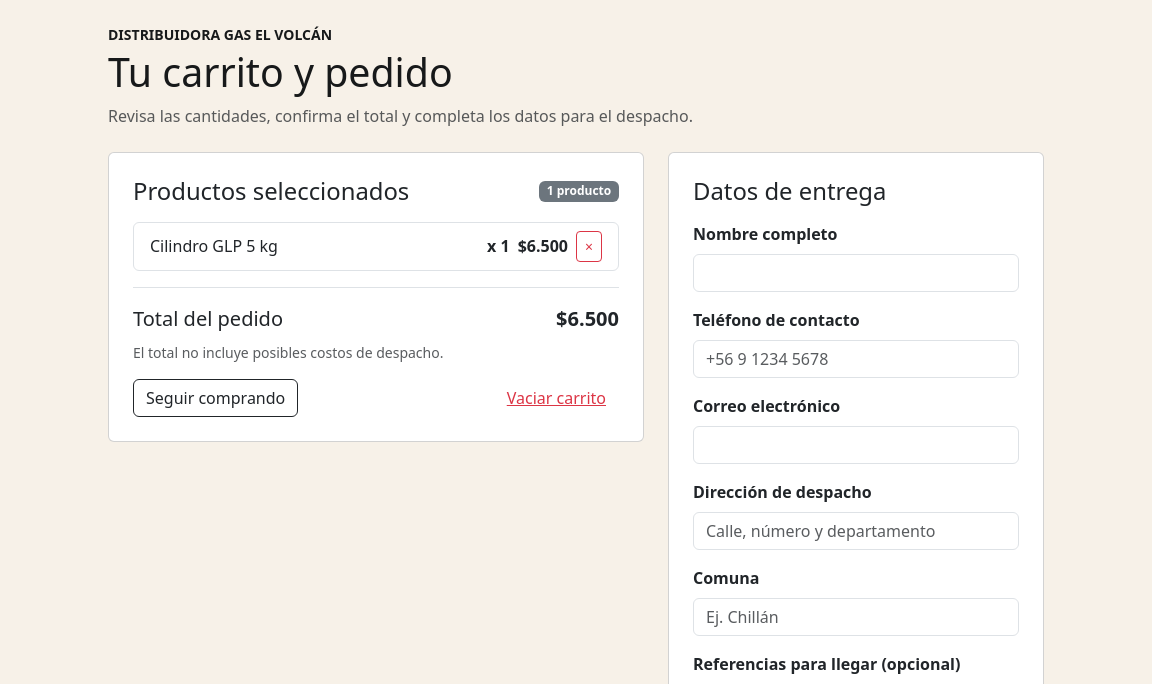
it: validaciones del formulario de pedido › muestra errores en los campos obligatorios si se envía vacío
The width and height of the screenshot is (1152, 684).
Type "D" into the field labelled "Nombre completo" at coordinates (856, 273), box x1=693 y1=254 x2=1019 y2=292
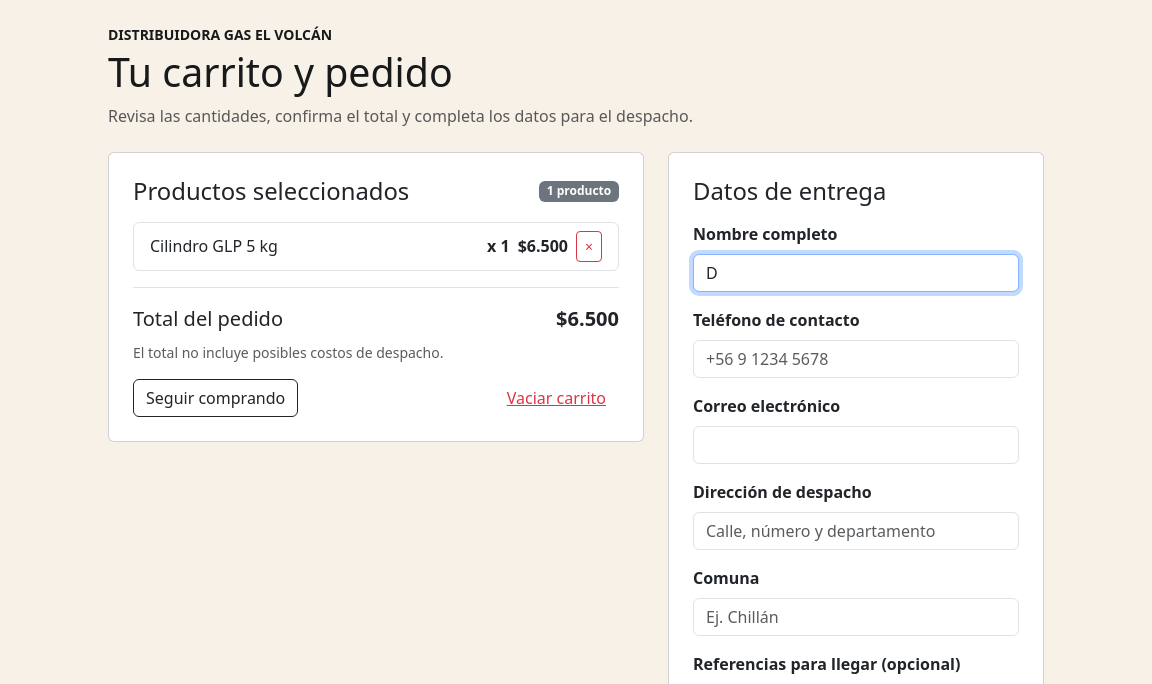
Type "123" into the field labelled "Teléfono de contacto" at coordinates (856, 359), box x1=693 y1=340 x2=1019 y2=378
(page scrolled)
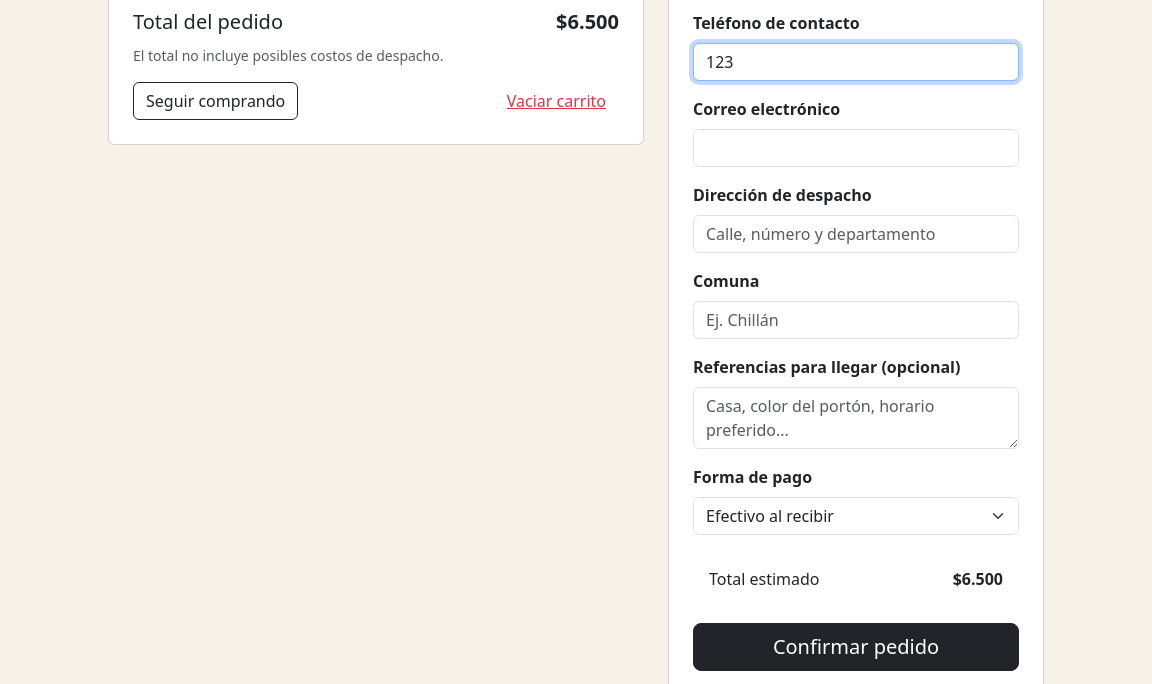
Click the button "Confirmar pedido" at coordinates (856, 647), box x1=693 y1=623 x2=1019 y2=671
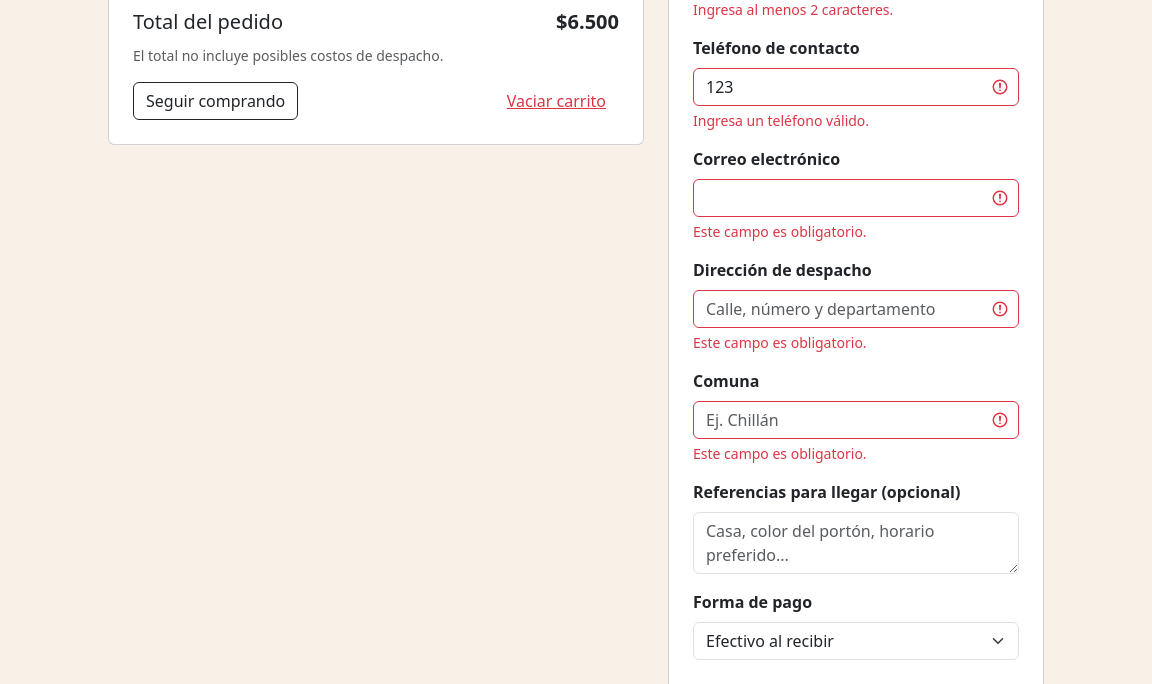
Result: the text "Ingresa al menos 2 caracteres." is shown at x1=693 y1=0 x2=893 y2=19
Result: the text "Ingresa un teléfono válido." is shown at x1=693 y1=111 x2=869 y2=130
